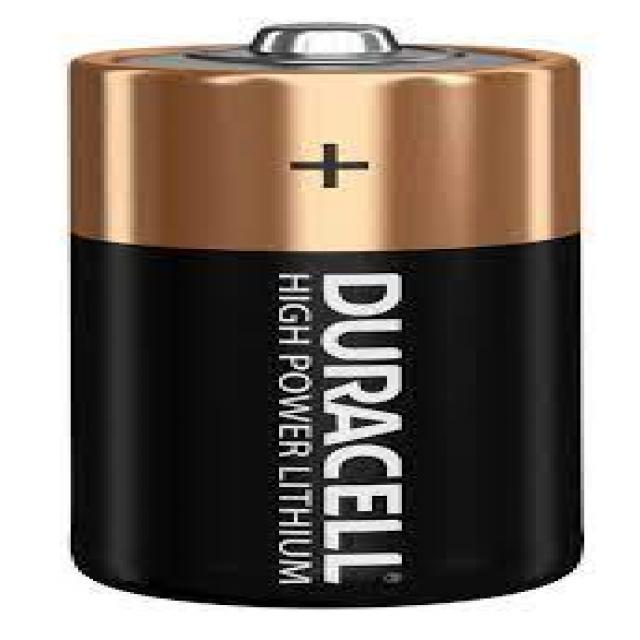battery: (68, 22, 588, 611)
